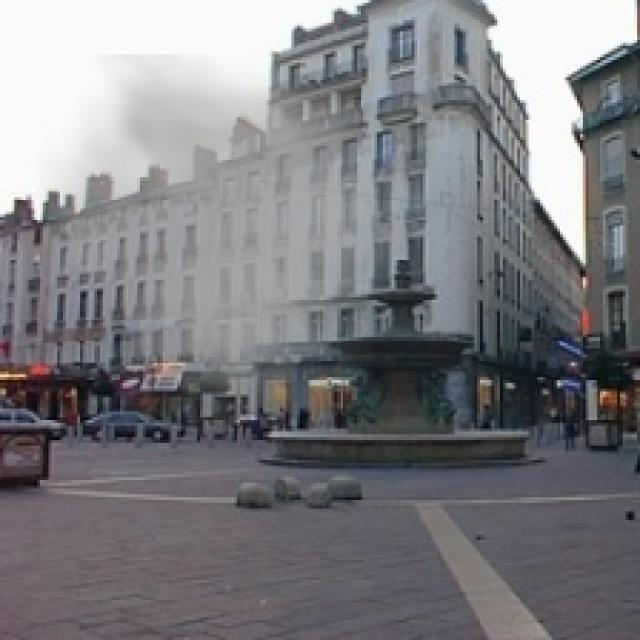smoke: (23, 54, 426, 440)
